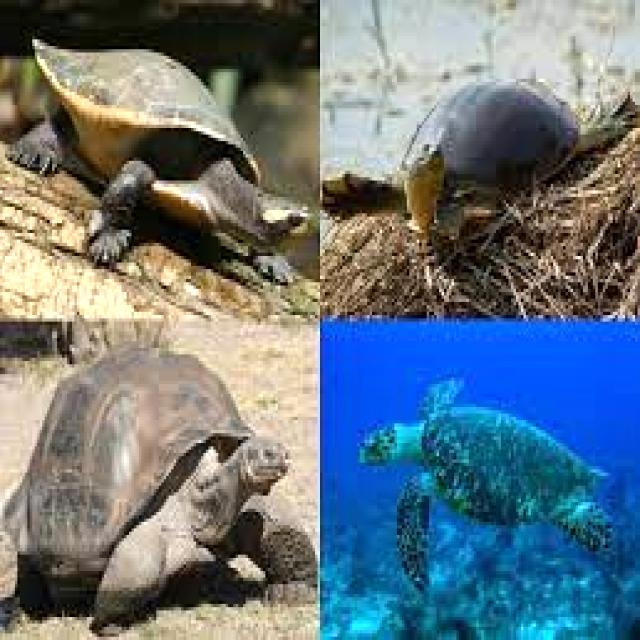Sea turtle: (4, 344, 316, 638), (16, 19, 310, 297), (348, 370, 624, 607), (395, 61, 629, 236)
